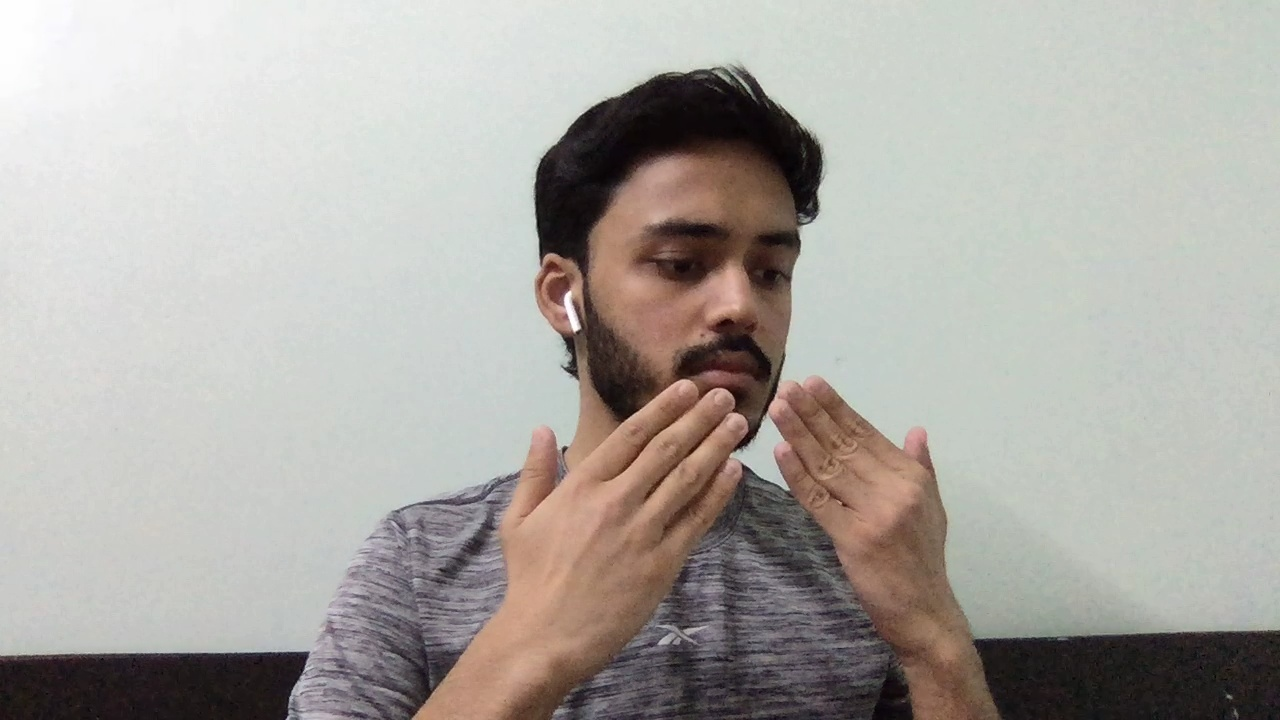Thank You: (479, 363, 991, 646)
